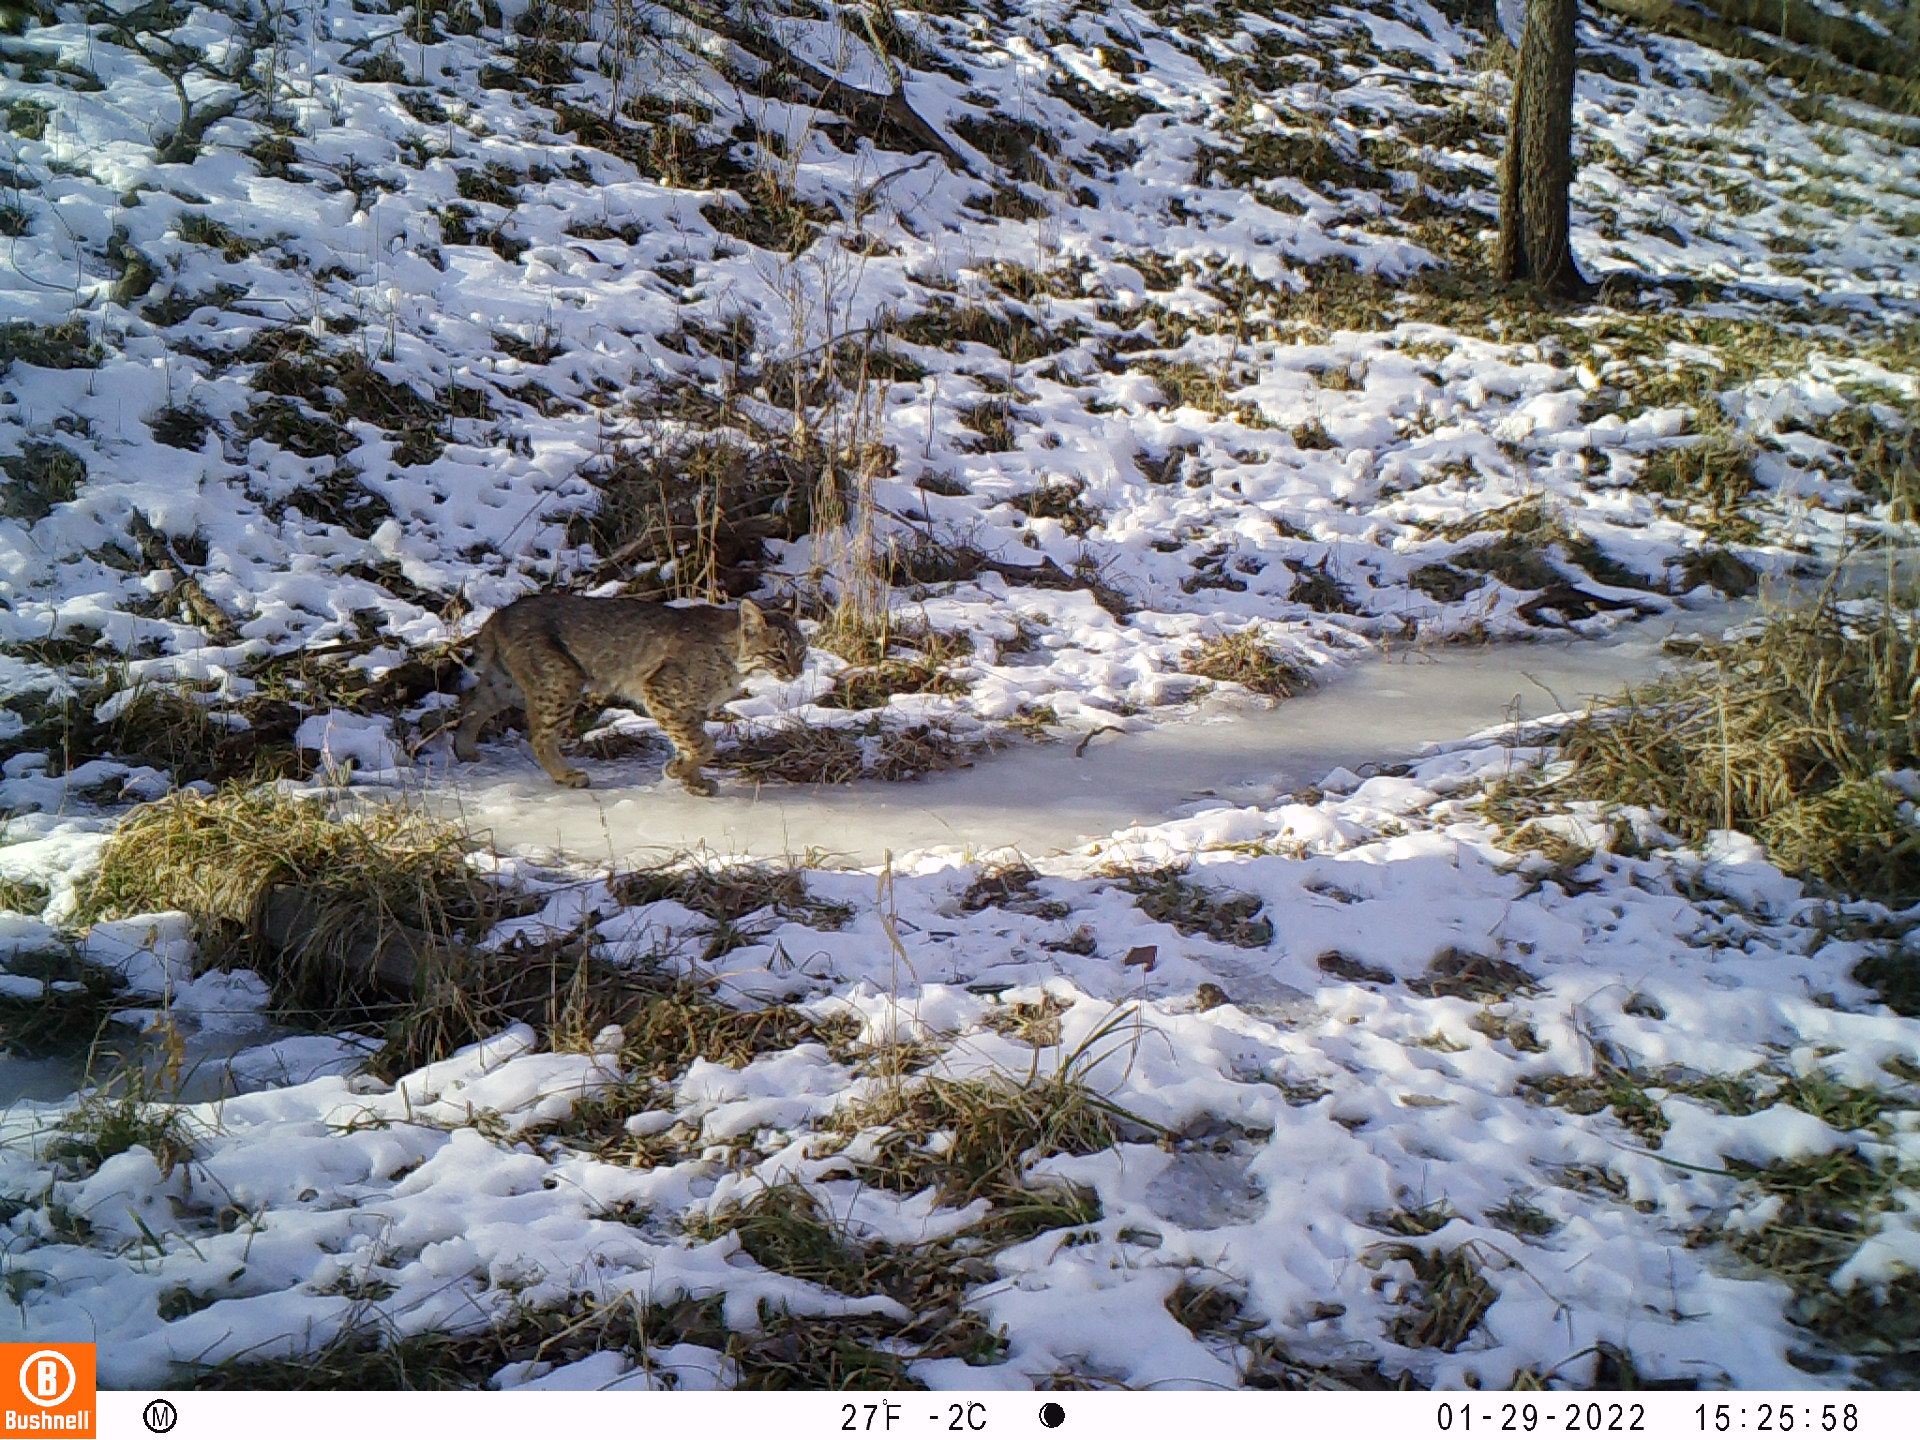Bobcat: (452, 588, 809, 793)
